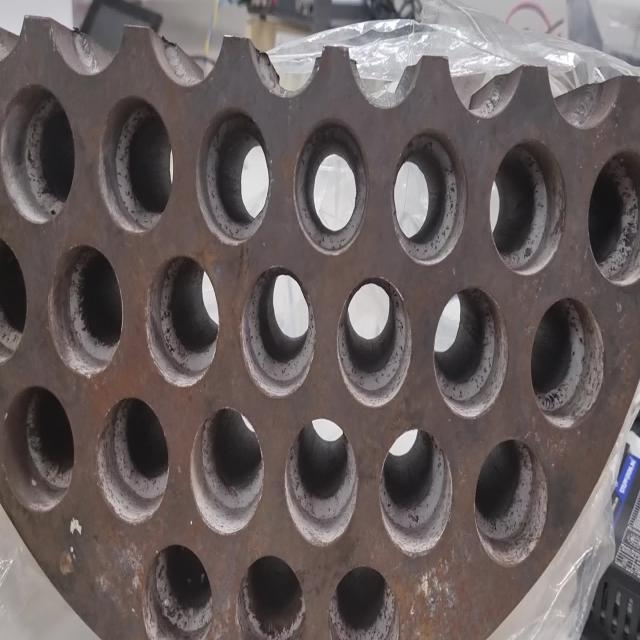Hole: (488, 138, 567, 275), (293, 116, 368, 256), (1, 84, 76, 224), (97, 95, 172, 234), (391, 129, 467, 265), (196, 108, 271, 245), (433, 284, 509, 419), (48, 243, 124, 378), (145, 253, 220, 387), (336, 276, 412, 408), (240, 267, 316, 399), (378, 427, 454, 558), (473, 437, 549, 567), (283, 418, 359, 548), (531, 296, 605, 428), (190, 406, 264, 536), (2, 384, 75, 514), (96, 396, 170, 524), (586, 148, 640, 286), (143, 542, 214, 640), (236, 552, 306, 640), (329, 564, 400, 640), (0, 233, 27, 365)
